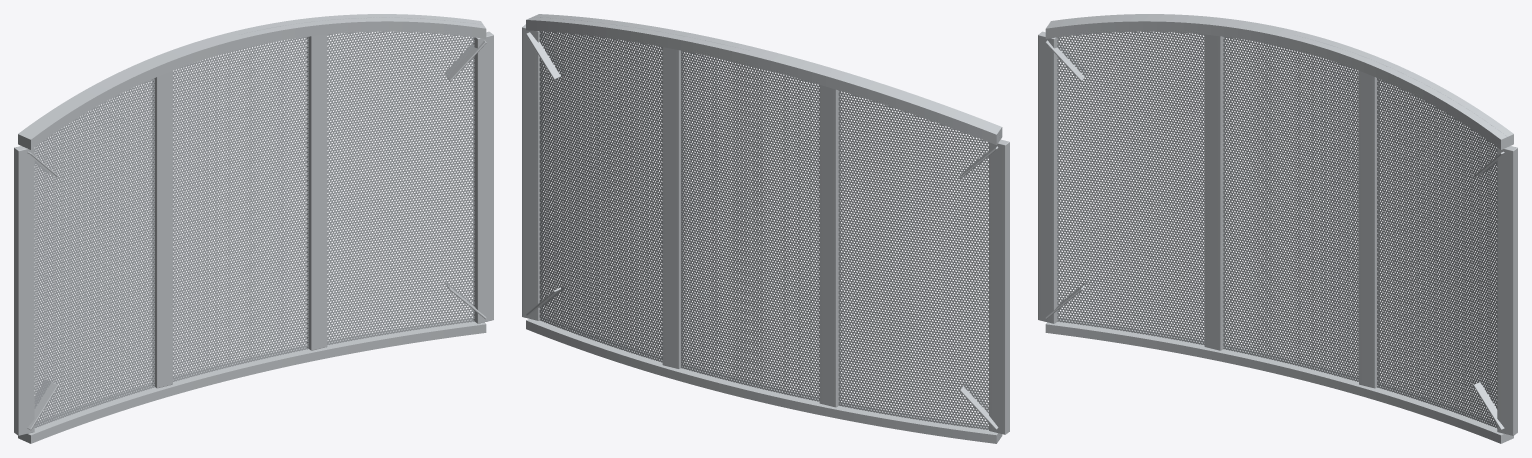
The picture shows the model from 3 angles, left to right: view 1: azimuth 30°, elevation 25°; view 2: azimuth 150°, elevation 25°; view 3: azimuth 330°, elevation 25°; orthographic projection.
Visible parts, largest first — view 1: PO3 0 blacha, PO3 0 profil gorny, PO3 0 profil dolny, PO3 0 pion.003, PO3 0 pion.002, PO3 0 pion, PO3 0 pion.001; view 2: PO3 0 blacha, PO3 0 profil gorny, PO3 0 profil dolny, PO3 0 pion.002, PO3 0 pion.003, PO3 0 pion, PO3 0 pion.001, PO3 0 skos gora.001; view 3: PO3 0 blacha, PO3 0 profil gorny, PO3 0 profil dolny, PO3 0 pion.002, PO3 0 pion.003, PO3 0 pion.001, PO3 0 pion.
Part boxes in pixels (bbox=[...]): PO3 0 blacha: bbox=[34, 17, 483, 427]; PO3 0 profil gorny: bbox=[18, 14, 486, 149]; PO3 0 profil dolny: bbox=[18, 317, 486, 443]; PO3 0 pion.003: bbox=[306, 34, 327, 350]; PO3 0 pion.002: bbox=[152, 71, 172, 388]; PO3 0 pion: bbox=[14, 146, 34, 435]; PO3 0 pion.001: bbox=[473, 31, 493, 323]; PO3 0 blacha: bbox=[534, 17, 999, 439]; PO3 0 profil gorny: bbox=[526, 14, 1002, 144]; PO3 0 profil dolny: bbox=[526, 316, 1002, 443]; PO3 0 pion.002: bbox=[819, 85, 840, 407]; PO3 0 pion.003: bbox=[662, 47, 683, 368]; PO3 0 pion: bbox=[989, 139, 1009, 434]; PO3 0 pion.001: bbox=[522, 24, 542, 320]; PO3 0 skos gora.001: bbox=[526, 32, 566, 79]; PO3 0 blacha: bbox=[1057, 31, 1507, 428]; PO3 0 profil gorny: bbox=[1045, 14, 1513, 149]; PO3 0 profil dolny: bbox=[1045, 317, 1513, 443]; PO3 0 pion.002: bbox=[1204, 34, 1225, 350]; PO3 0 pion.003: bbox=[1359, 71, 1379, 388]; PO3 0 pion.001: bbox=[1497, 146, 1517, 435]; PO3 0 pion: bbox=[1038, 31, 1058, 323].
Size of the model in its own units: 1.45 by 0.986 by 0.1328.
3 materials, 1 textured.
